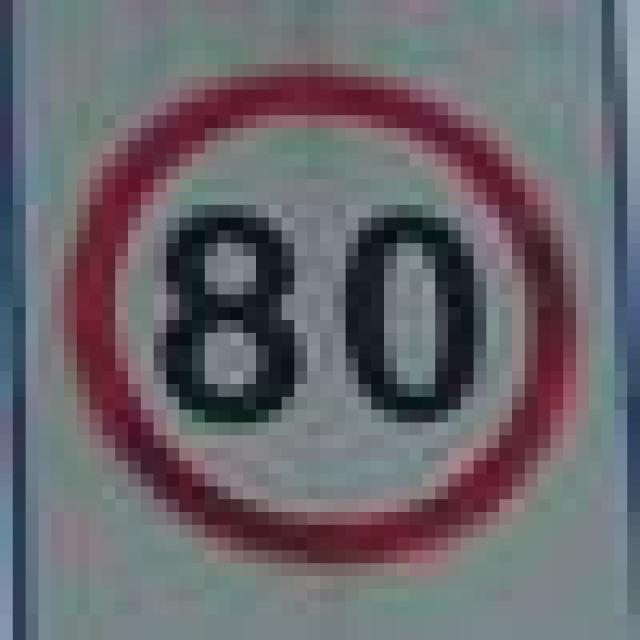speed_limit_50: (38, 51, 576, 563)
